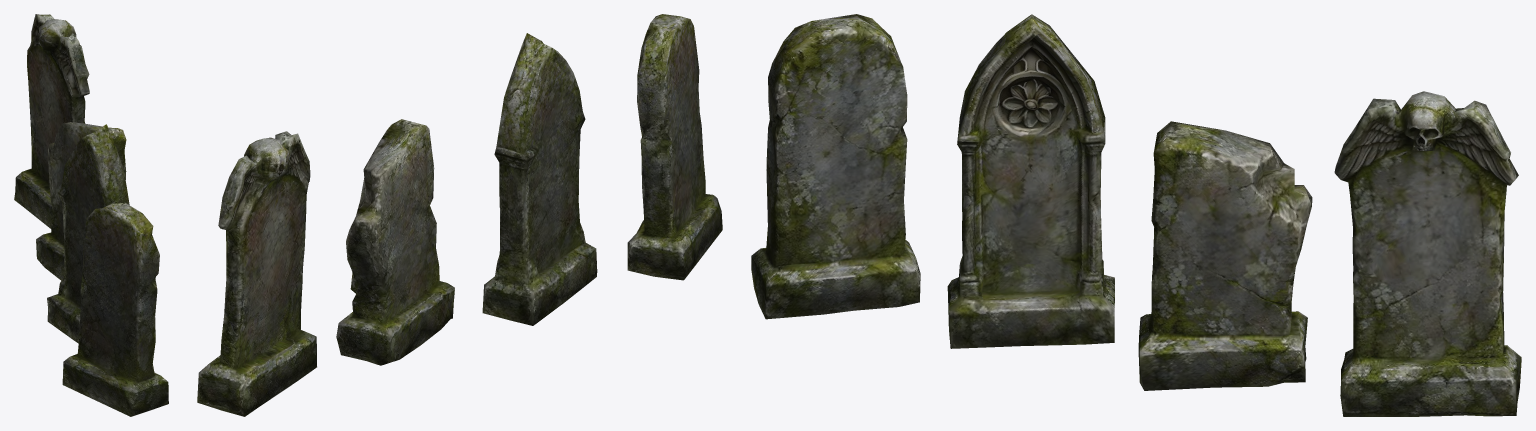
File: tombs4.glb
The picture shows the model from 3 angles, left to right: view 1: azimuth 30°, elevation 25°; view 2: azimuth 150°, elevation 25°; view 3: azimuth 270°, elevation 25°; orthographic projection. The views are drawn at different scales.
Visible parts, largest first — view 1: tripo_node_b7d6fe82-9a3d-4cb0-820d-b5855ccbe39f; view 2: tripo_node_b7d6fe82-9a3d-4cb0-820d-b5855ccbe39f; view 3: tripo_node_b7d6fe82-9a3d-4cb0-820d-b5855ccbe39f.
Part boxes in pixels (x1,y1,x2,y2): tripo_node_b7d6fe82-9a3d-4cb0-820d-b5855ccbe39f: (14, 14, 168, 416); tripo_node_b7d6fe82-9a3d-4cb0-820d-b5855ccbe39f: (197, 14, 722, 416); tripo_node_b7d6fe82-9a3d-4cb0-820d-b5855ccbe39f: (751, 14, 1521, 416).
Bounding box in the file's own units: 0.4412 × 0.4614 × 1.
1 material, 1 textured.
